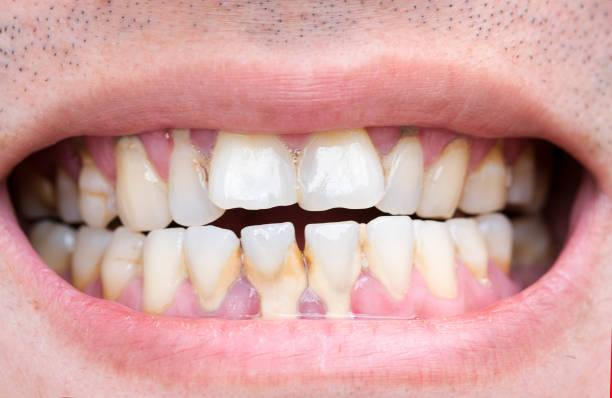Calculus: (248, 226, 314, 312), (186, 228, 246, 302), (65, 218, 120, 290), (75, 158, 124, 226), (106, 230, 155, 290), (474, 152, 519, 211)
